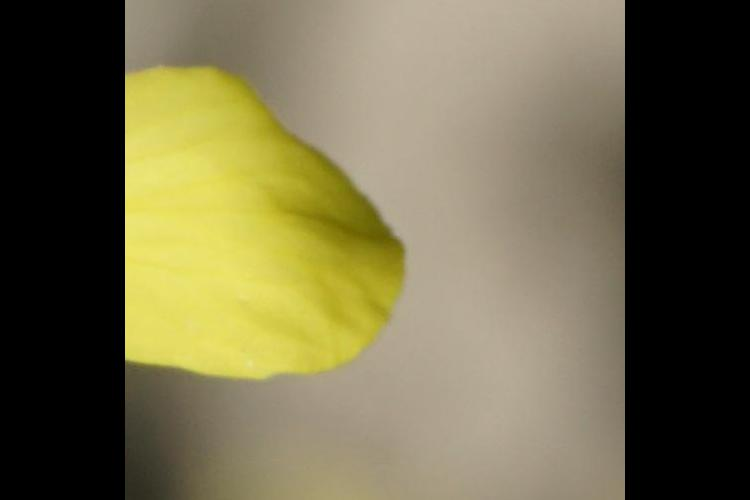yellow: (137, 63, 402, 398)
